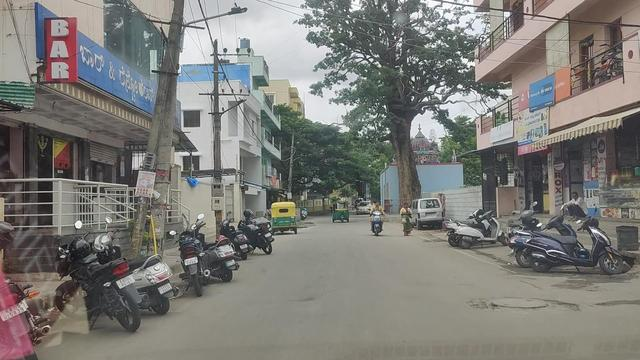RoadDamages: (480, 288, 584, 316)
